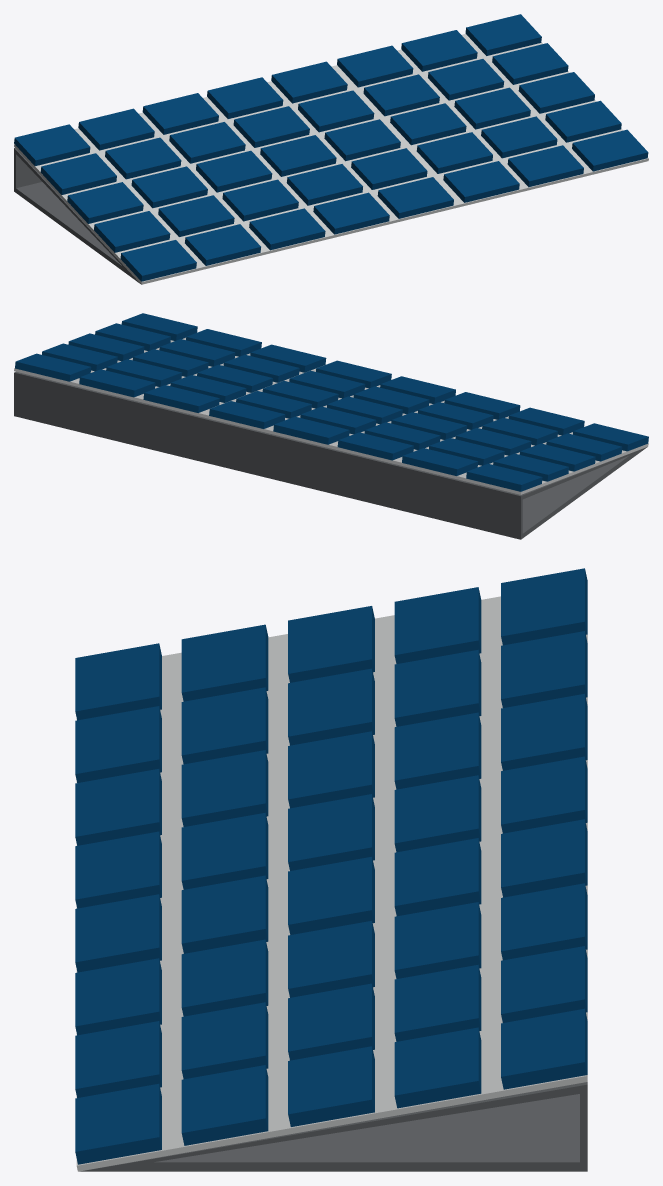
Rendered from Solar Panel 5x8 small.glb.
The picture shows the model from 3 angles, top to bottom: view 1: azimuth 30°, elevation 25°; view 2: azimuth 150°, elevation 25°; view 3: azimuth 270°, elevation 25°; orthographic projection. The views are drawn at different scales.
Parts seen in each view (by area): view 1: Mesh_Mesh_head_geo.001_lambert2SG.001; view 2: Mesh_Mesh_head_geo.001_lambert2SG.001; view 3: Mesh_Mesh_head_geo.001_lambert2SG.001.
Part boxes in pixels (<box>): Mesh_Mesh_head_geo.001_lambert2SG.001: <box>14,14,648,284</box>; Mesh_Mesh_head_geo.001_lambert2SG.001: <box>14,313,648,539</box>; Mesh_Mesh_head_geo.001_lambert2SG.001: <box>75,568,587,1171</box>.
Size of the model in its own units: 244 by 24.96 by 107.
